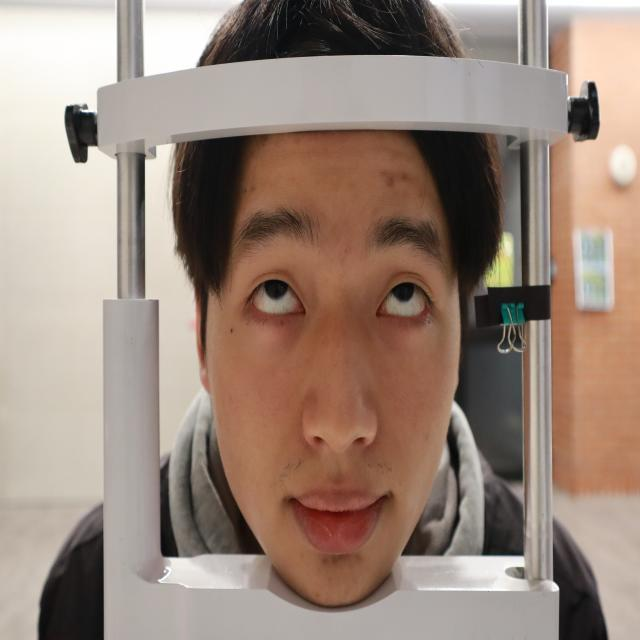eye: (372, 269, 443, 333), (239, 270, 311, 332)
gaze: (390, 278, 418, 304), (264, 276, 290, 300)
